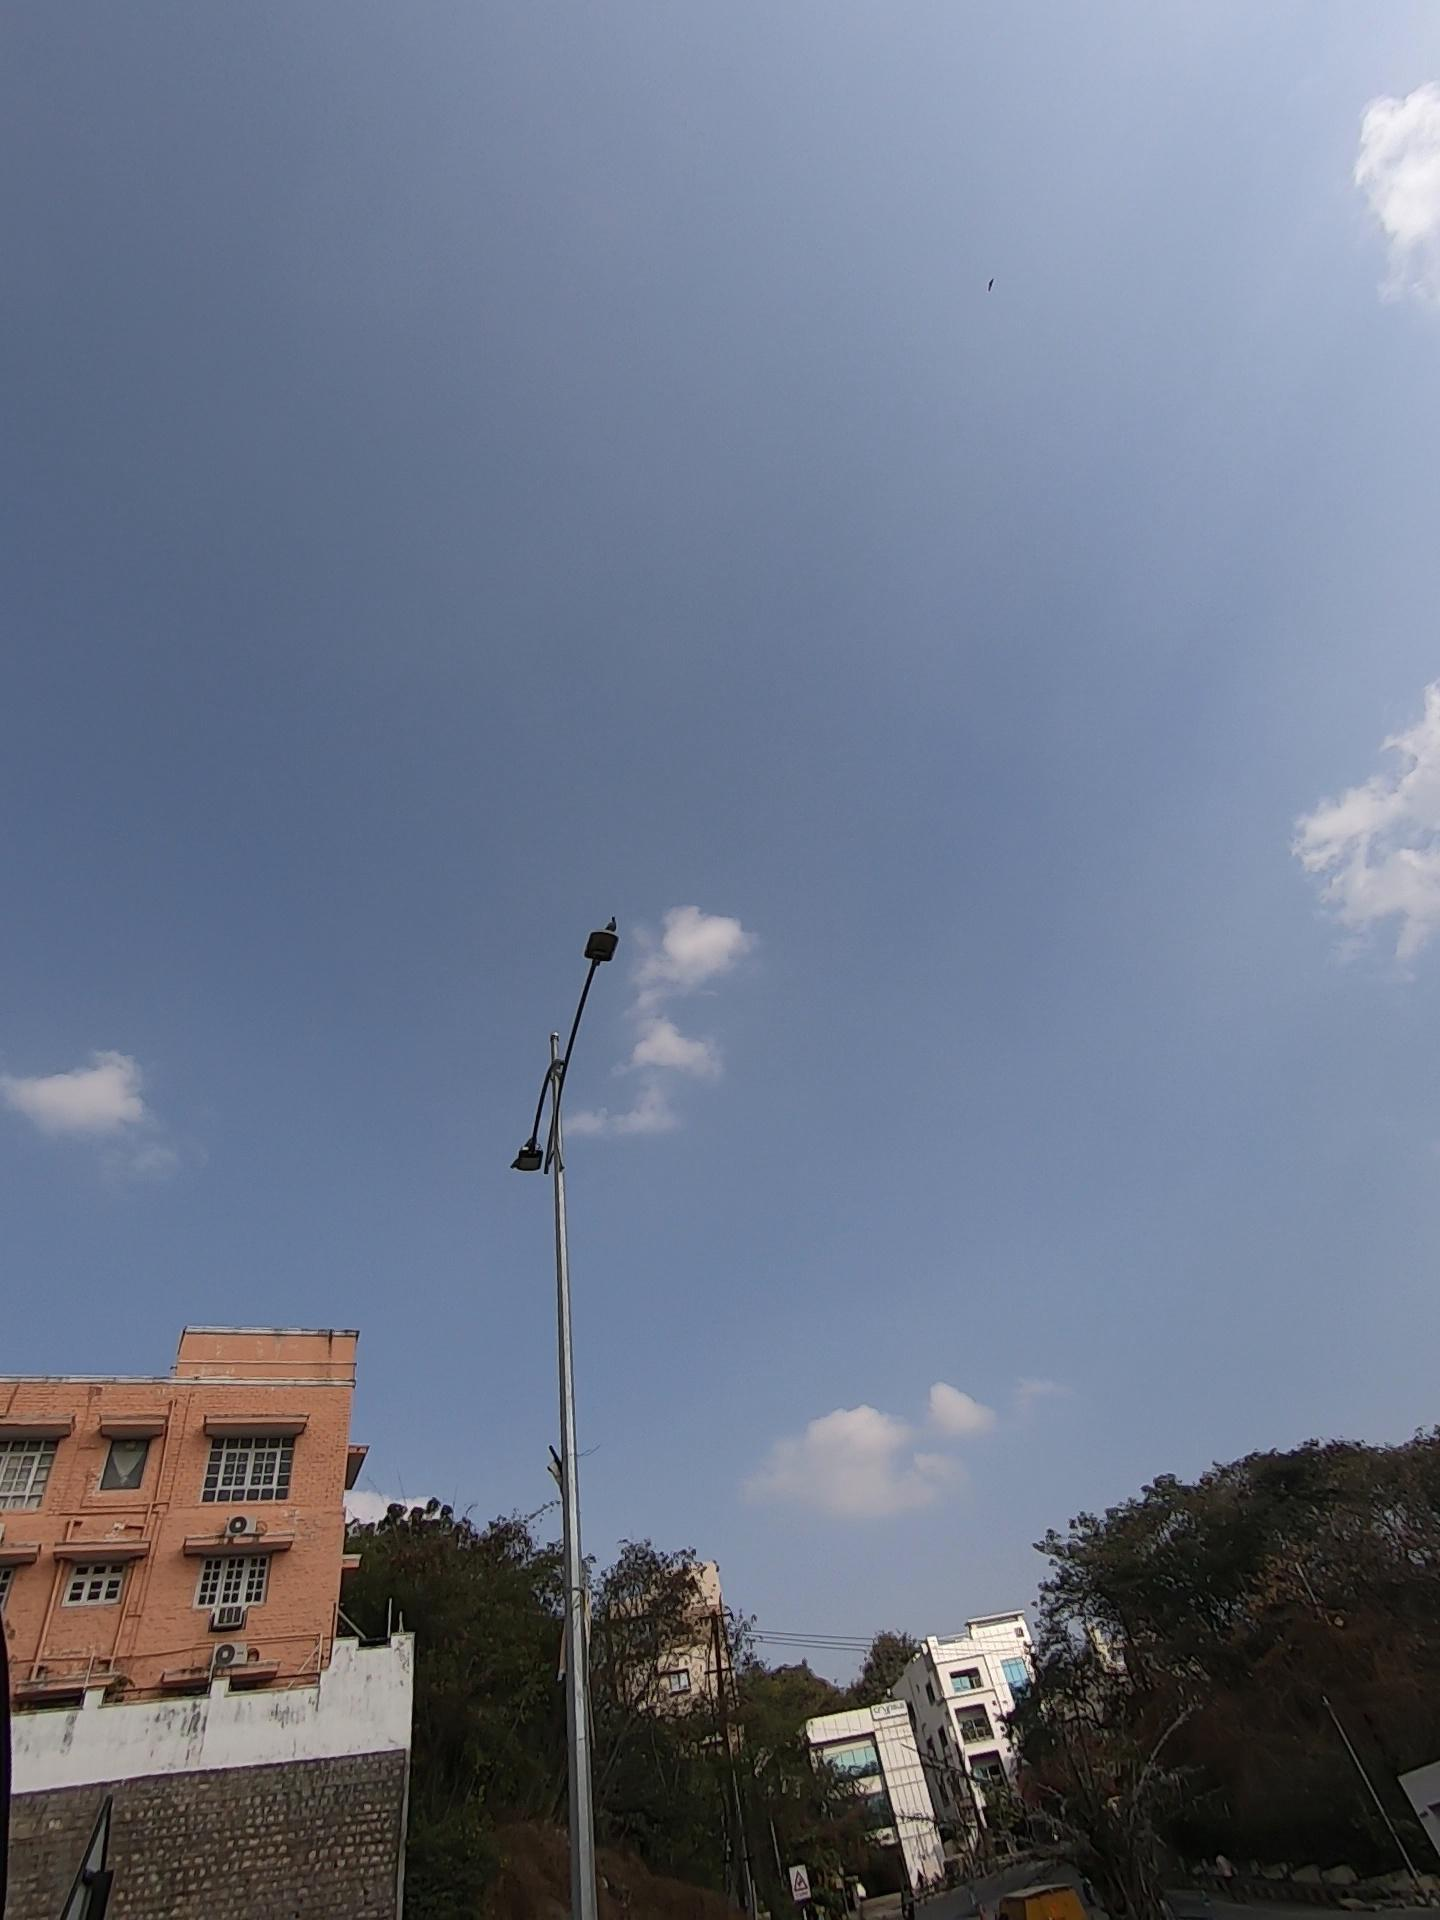off: (490, 866, 652, 1208)
